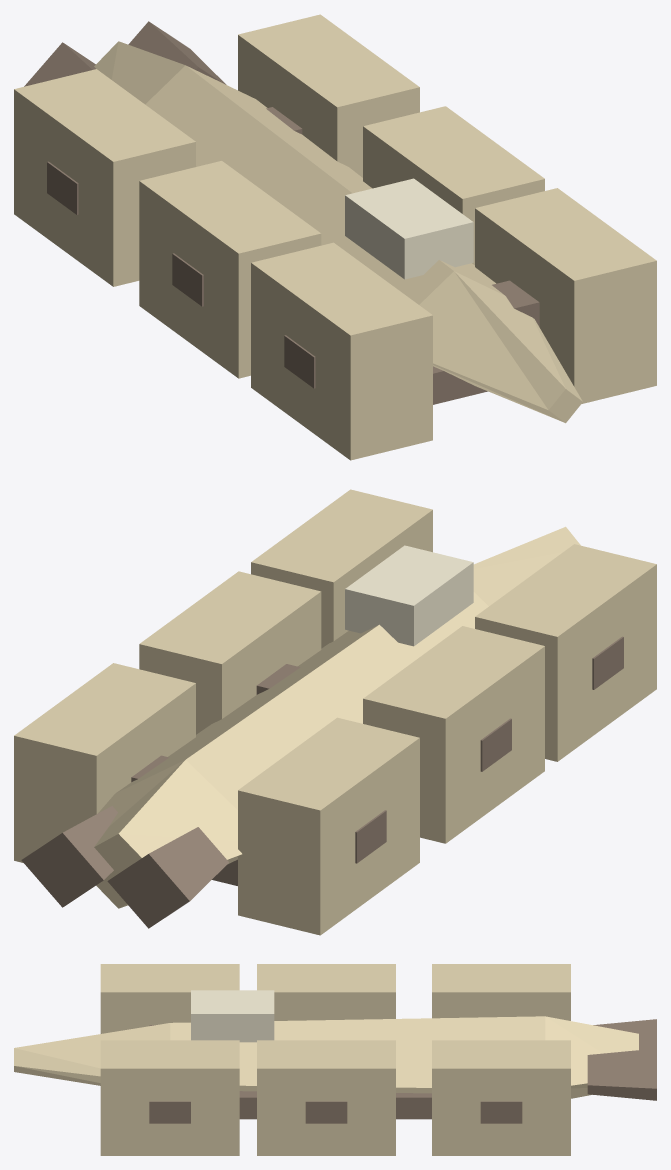
The picture shows the model from 3 angles, top to bottom: view 1: azimuth 30°, elevation 25°; view 2: azimuth 150°, elevation 25°; view 3: azimuth 270°, elevation 25°; orthographic projection. The views are drawn at different scales.
Size of the model in its own units: 3.53 by 1.58 by 9.07.
